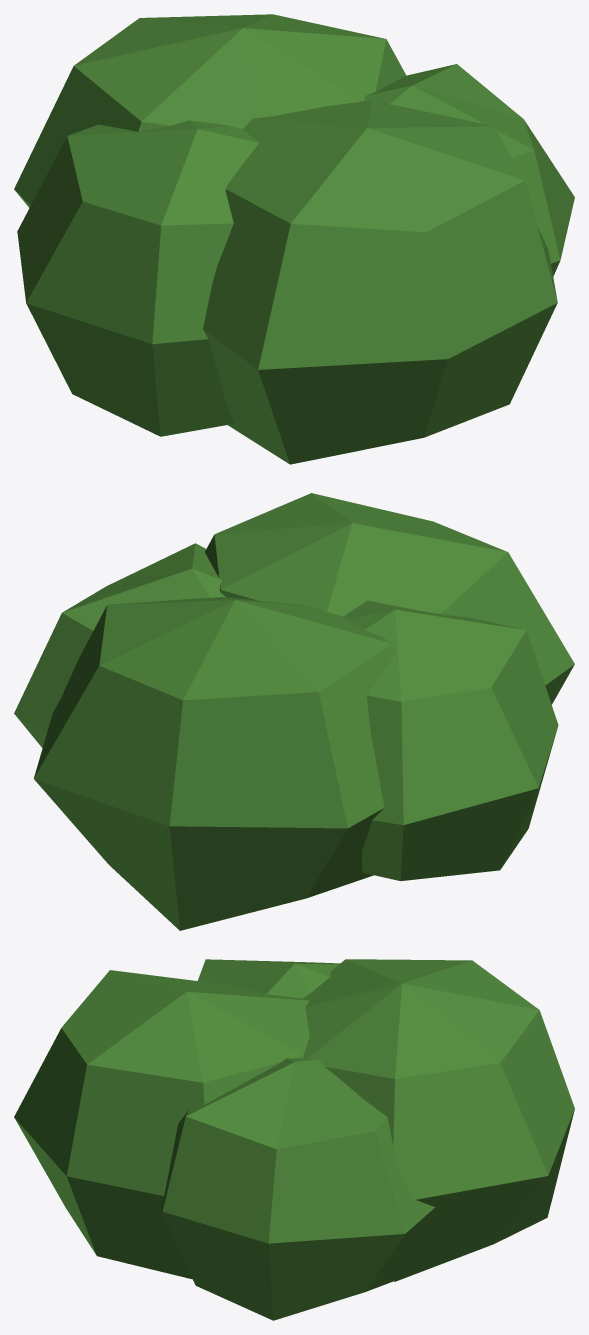
File: bush_a.glb
The picture shows the model from 3 angles, top to bottom: view 1: azimuth 30°, elevation 25°; view 2: azimuth 150°, elevation 25°; view 3: azimuth 270°, elevation 25°; orthographic projection. The views are drawn at different scales.
Visible parts, largest first — view 1: bush_a; view 2: bush_a; view 3: bush_a.
Boxes of the visible parts, x1=… form: bush_a: x1=14, y1=14, x2=574, y2=464; bush_a: x1=14, y1=493, x2=574, y2=930; bush_a: x1=14, y1=959, x2=574, y2=1320.
Size of the model in its own units: 2.34 by 1.29 by 2.5.
